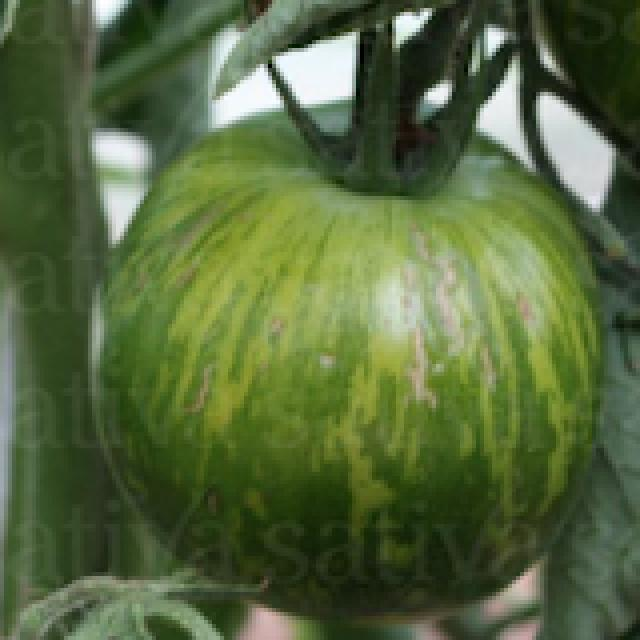kirmizi: (94, 28, 596, 608)
